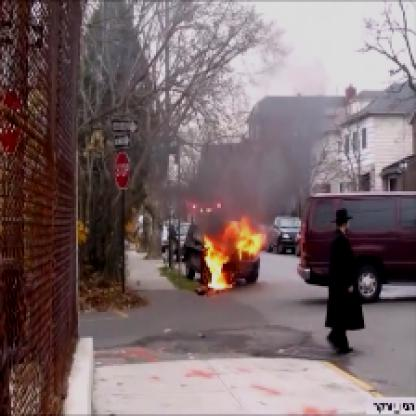Fire: (193, 201, 262, 299)
